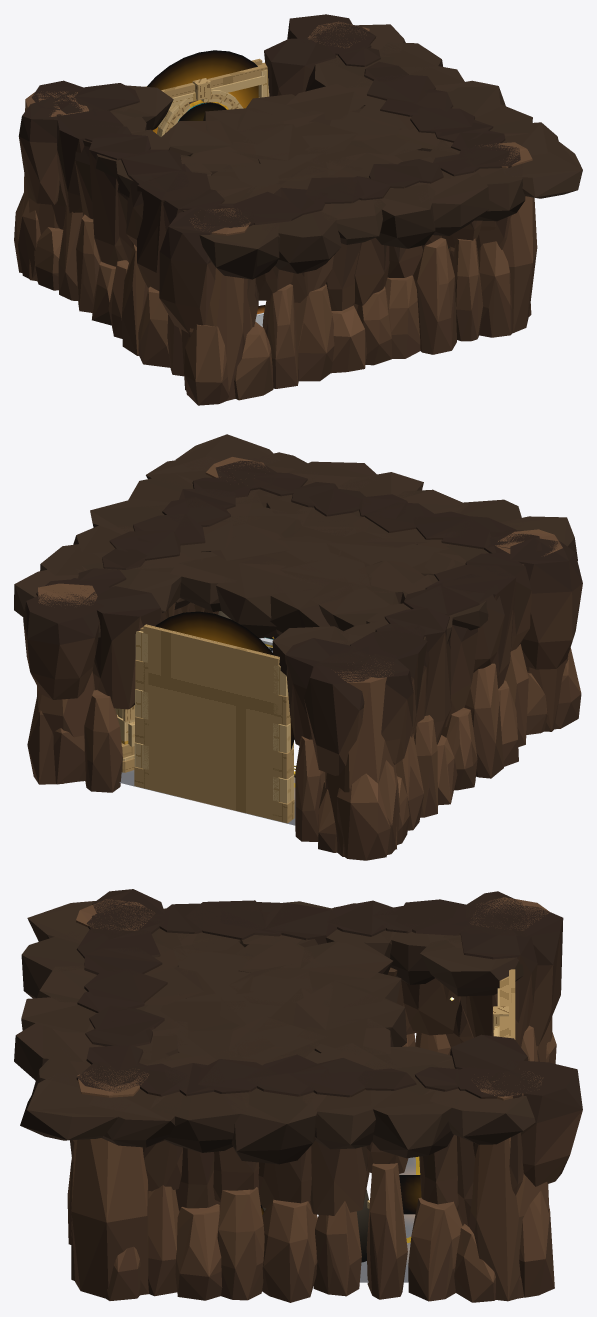
File: survey-hall.glb
3 renders of one model, top to bottom at view 1: azimuth 30°, elevation 25°; view 2: azimuth 150°, elevation 25°; view 3: azimuth 270°, elevation 25°, orthographic. The views are drawn at different scales.
Visible parts, largest first — view 1: Batched static valley; view 2: Batched static valley; view 3: Batched static valley.
Part boxes in pixels (bbox=[...]): Batched static valley: bbox=[14, 14, 582, 405]; Batched static valley: bbox=[14, 434, 582, 860]; Batched static valley: bbox=[14, 889, 582, 1302].
Bounding box in the file's own units: 54.05 × 23.8 × 54.9.
10 materials, 2 textured.
